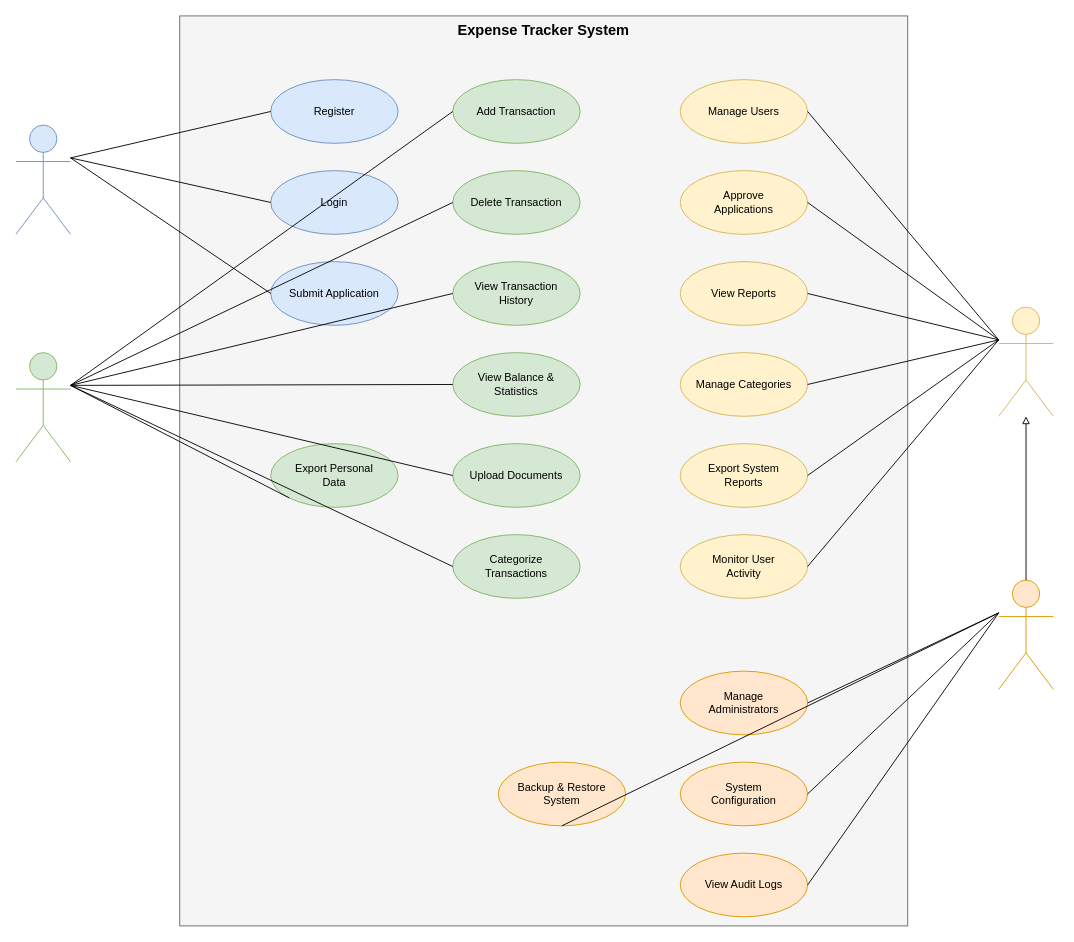
Image size: 1074x942. Some labels were removed from this diagram. Each missing label, with the box of its shape:
Administrator: (998, 306, 1053, 416)
Guest: (15, 124, 71, 234)
Super Admin: (998, 579, 1053, 689)
User: (15, 352, 71, 462)
